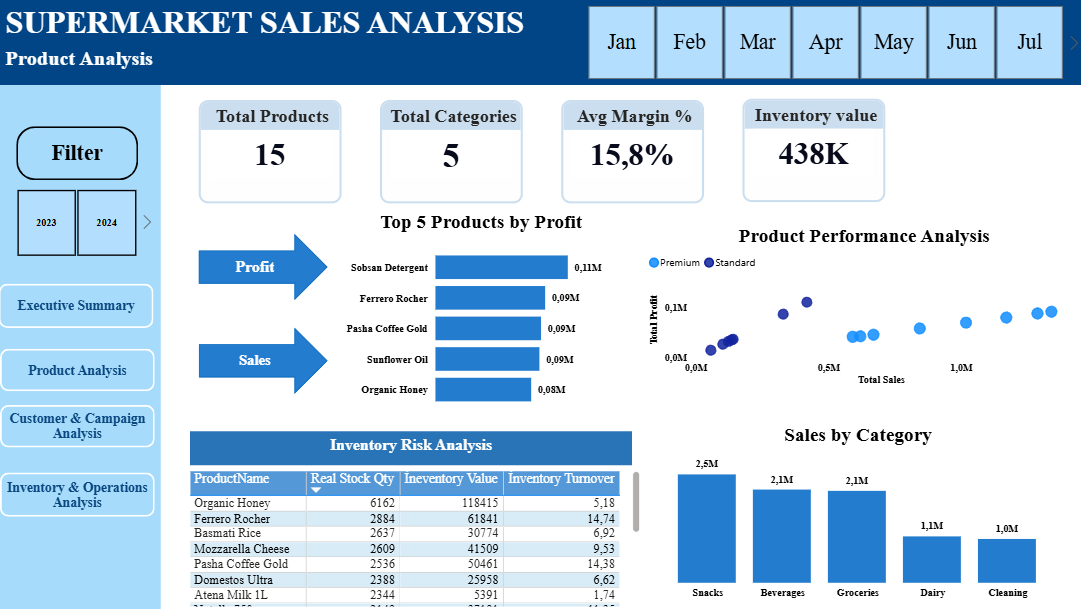

What the dashboard file says about the page in this screenshot:
{"tool":"powerbi","page":{"name":"Product Analysis","canvas":[1280,720],"ordinal":1},"visuals":[{"type":"shape","box":[0,0,1280,100],"z":0},{"type":"textbox","box":[6.7,0,653.3,55],"z":1000},{"type":"shape","box":[0,100,195,620],"z":2000},{"type":"cardVisual","title":"Total Products","fields":{"Data":["Ölçülər.Total product"]},"box":[240,117.2,168.3,121.7],"z":3000},{"type":"cardVisual","title":"Total Categories","fields":{"Data":["Ölçülər.Total category"]},"box":[453.3,117.8,168.3,121.7],"z":4000},{"type":"cardVisual","title":"Avg Margin %","fields":{"Data":["Ölçülər.Avg Product Margin %"]},"box":[666.7,118.3,168.3,121.7],"z":5000},{"type":"cardVisual","title":"Inventory value","fields":{"Data":["Ölçülər.Real İneventory Value"]},"box":[880,116.7,168.3,121.7],"z":6000},{"type":"slicer","fields":{"Values":["DimDate.MonthName"]},"box":[671.7,0,608.3,100],"z":7000},{"type":"actionButton","box":[25,148.3,143.3,63.3],"z":8000},{"type":"actionButton","box":[4,334,182,52],"z":9000},{"type":"actionButton","box":[6,410,182,50],"z":10000},{"type":"actionButton","box":[6,476,182,50],"z":11000},{"type":"actionButton","box":[6,556,182,52],"z":12000},{"type":"textbox","box":[6.7,50,300,48.3],"z":13000},{"type":"scatterChart","title":"Product Performance Analysis","fields":{"X":["Ölçülər.Total Sales"],"Y":["Ölçülər.Total Profit"],"Size":["Sum(FactSales.Quantity)"],"Series":["DimProduct.Segment"],"Category":["DimProduct.ProductName"]},"box":[764.3,265.4,516,193.2],"z":15000},{"type":"tableEx","title":"Inventory Risk Analysis","fields":{"Values":["DimProduct.ProductName","Ölçülər.Real Stock Qty","Ölçülər.Inventory value","Ölçülər.İnventory Turnover"]},"box":[223.3,555,540,165],"z":16000},{"type":"textbox","box":[230,506.7,520,40],"z":17000},{"type":"clusteredColumnChart","title":"Sales by Category","fields":{"Category":["DimProduct.Category"],"Y":["Ölçülər.Total Sales"]},"box":[762.9,498.6,504.3,214.3],"z":18000},{"type":"shape","box":[239.7,275.1,151.6,78.3],"z":19000},{"type":"shape","box":[239.7,385.2,151.6,78.3],"z":20000},{"type":"clusteredBarChart","title":"Top 5 Products by Profit","fields":{"Category":["DimProduct.ProductName"],"Y":["Ölçülər.Total Profit"]},"box":[407.9,248.7,329.4,244.3],"z":21000},{"type":"slicer","fields":{"Values":["DimDate.Year"]},"box":[0,216.7,190,91.7],"z":22000}]}

Visuals, with their boxes in screenshot pixels (x1, y1, x2, y2), scaled from the page's 1280x720 canvas onto the 1081x609 screenshot:
shape: (left=0, top=0, right=1080, bottom=85)
textbox: (left=6, top=0, right=557, bottom=47)
shape: (left=0, top=85, right=165, bottom=608)
"Total Products" cardVisual: (left=203, top=99, right=345, bottom=202)
"Total Categories" cardVisual: (left=383, top=100, right=525, bottom=203)
"Avg Margin %" cardVisual: (left=563, top=100, right=705, bottom=203)
"Inventory value" cardVisual: (left=743, top=99, right=885, bottom=202)
slicer - DimDate.MonthName: (left=567, top=0, right=1080, bottom=85)
actionButton: (left=21, top=125, right=142, bottom=179)
actionButton: (left=3, top=283, right=157, bottom=326)
actionButton: (left=5, top=347, right=159, bottom=389)
actionButton: (left=5, top=403, right=159, bottom=445)
actionButton: (left=5, top=470, right=159, bottom=514)
textbox: (left=6, top=42, right=259, bottom=83)
"Product Performance Analysis" scatterChart: (left=645, top=224, right=1080, bottom=388)
"Inventory Risk Analysis" tableEx: (left=189, top=469, right=645, bottom=608)
textbox: (left=194, top=429, right=633, bottom=462)
"Sales by Category" clusteredColumnChart: (left=644, top=422, right=1070, bottom=603)
shape: (left=202, top=233, right=330, bottom=299)
shape: (left=202, top=326, right=330, bottom=392)
"Top 5 Products by Profit" clusteredBarChart: (left=344, top=210, right=623, bottom=417)
slicer - DimDate.Year: (left=0, top=183, right=160, bottom=261)
